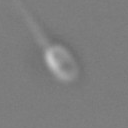normal: (8, 1, 52, 48)
